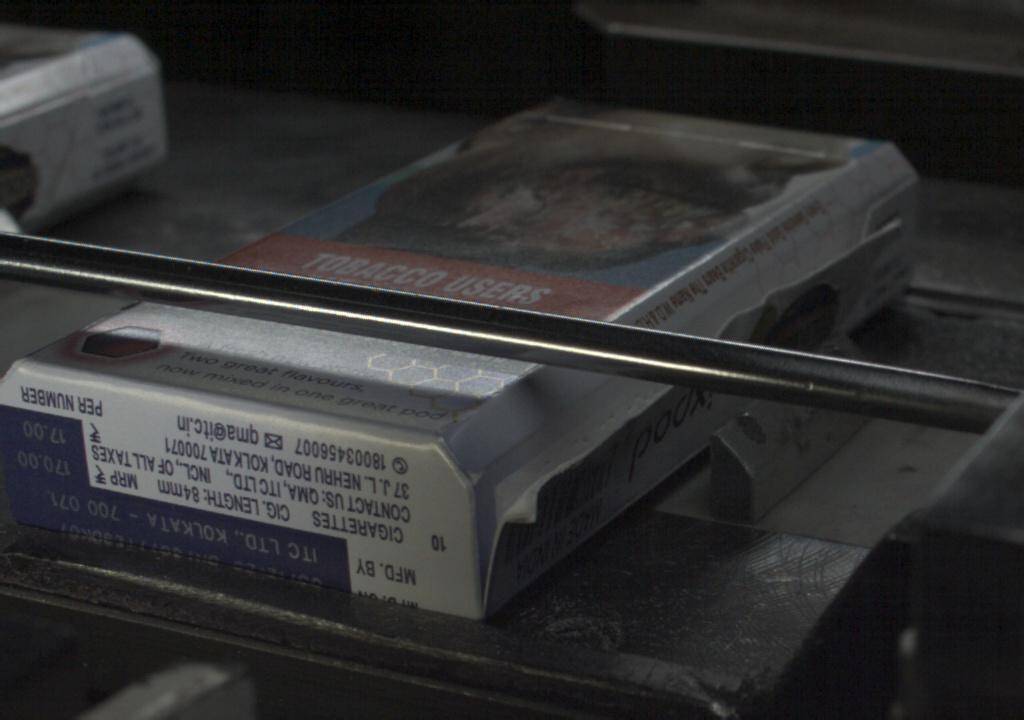g_bottom: (1, 359, 469, 616)
g_label: (5, 488, 352, 595)
g_miter: (870, 173, 913, 206)
ng_lmiter: (556, 393, 652, 472), (478, 450, 546, 535), (709, 268, 793, 331), (801, 213, 867, 265)
price: (4, 415, 87, 484)
